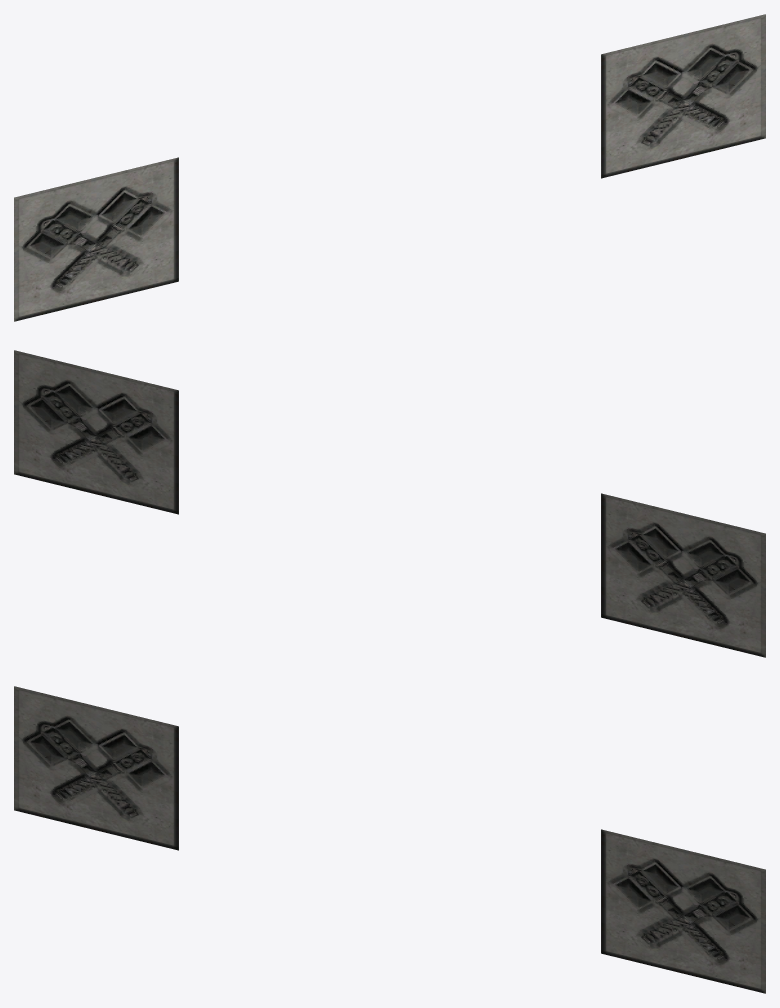
File: DWARF_PALACE_MAINHALL_ICON04.fbx
3 views of the same model, one above another, from view 1: azimuth 30°, elevation 25°; view 2: azimuth 150°, elevation 25°; view 3: azimuth 330°, elevation 25° (orthographic).
Parts seen in each view (by area): view 1: DWARF_PALACE_MAINHALL_ICON04; view 2: DWARF_PALACE_MAINHALL_ICON04; view 3: DWARF_PALACE_MAINHALL_ICON04.
Part boxes in pixels (bbox=[...]): DWARF_PALACE_MAINHALL_ICON04: bbox=[14, 14, 765, 321]; DWARF_PALACE_MAINHALL_ICON04: bbox=[14, 350, 765, 657]; DWARF_PALACE_MAINHALL_ICON04: bbox=[14, 686, 765, 993].
Bounding box in the file's own units: 114000 × 18000 × 0.293.
Materials: 1 (1 with a texture image).
